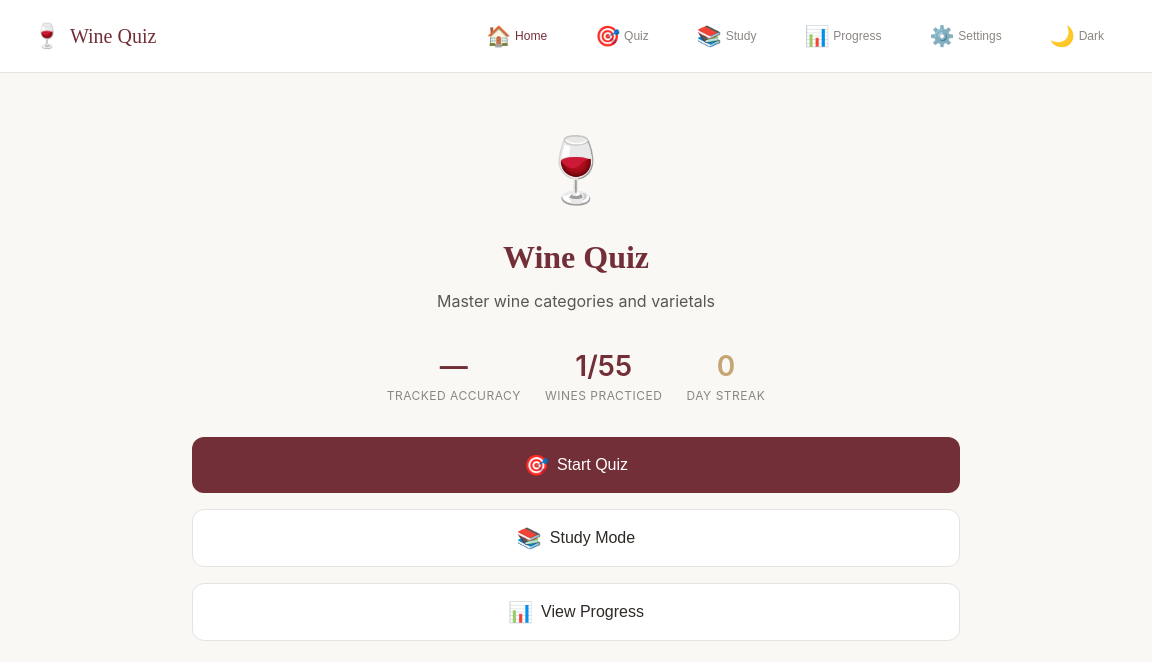
Test: App quiz navigation › opens the truthful progress dashboard from navigation
Click the button "📊 Progress".
click(843, 36)  # box top-left (788, 16), bottom-right (897, 56)
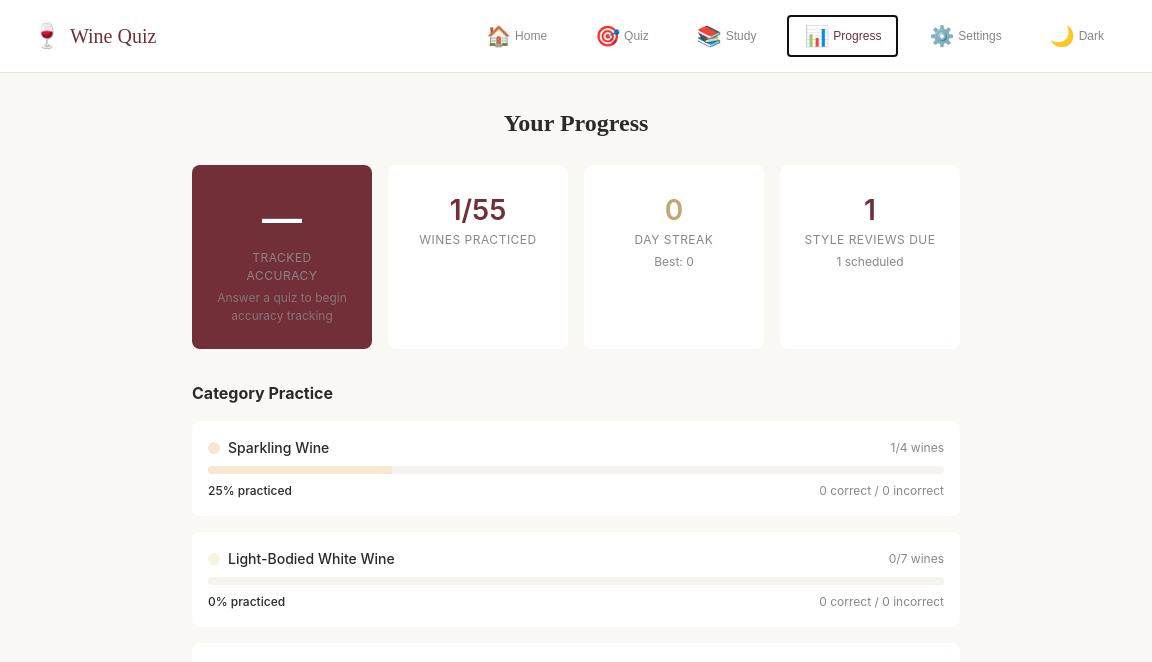
Expected: the text "Tracked Accuracy" is shown, top-left (247, 250), bottom-right (317, 283)
Result: the heading "Your Progress" is shown at top-left (504, 110), bottom-right (648, 136)
Result: the text "Style Reviews Due" is shown at top-left (804, 231), bottom-right (936, 249)
